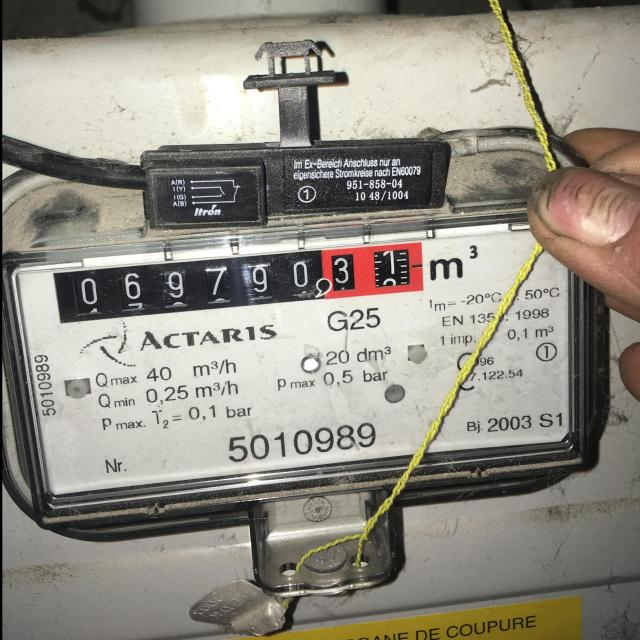gaz_meter: (9, 216, 616, 506)
indication: (51, 240, 425, 325)
